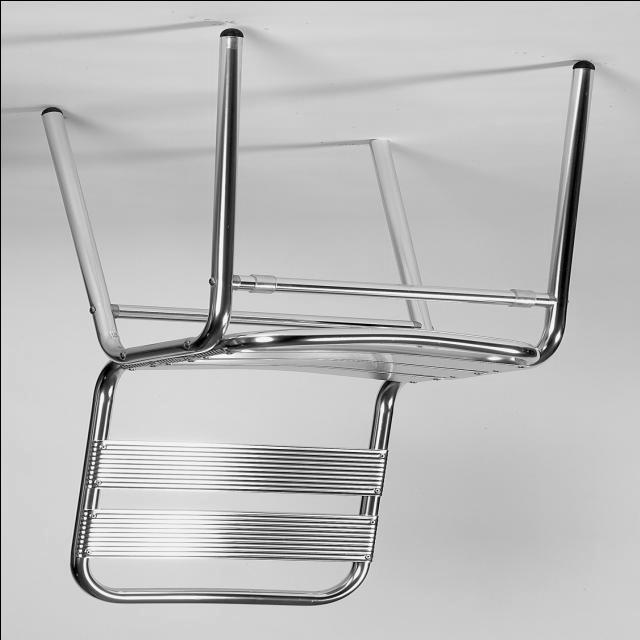chair: (37, 29, 594, 607)
